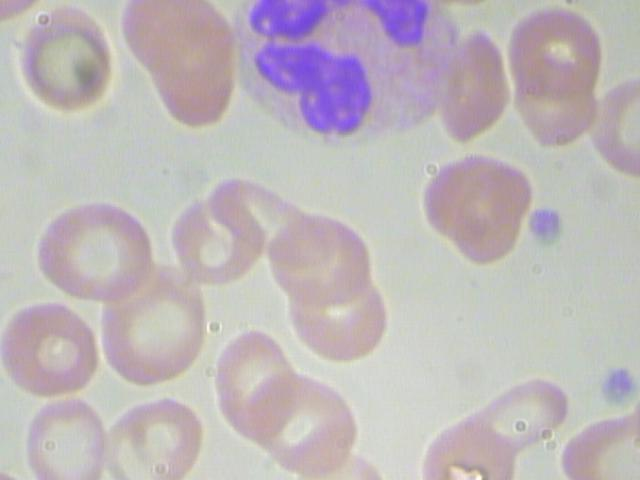Platelets: (522, 206, 570, 255), (592, 361, 639, 410)
RBC: (27, 195, 155, 303), (0, 1, 117, 119), (264, 200, 384, 307), (413, 157, 544, 244), (2, 299, 115, 396), (210, 325, 302, 444), (507, 5, 608, 98), (439, 22, 508, 145)
WBC: (215, 1, 457, 153)
